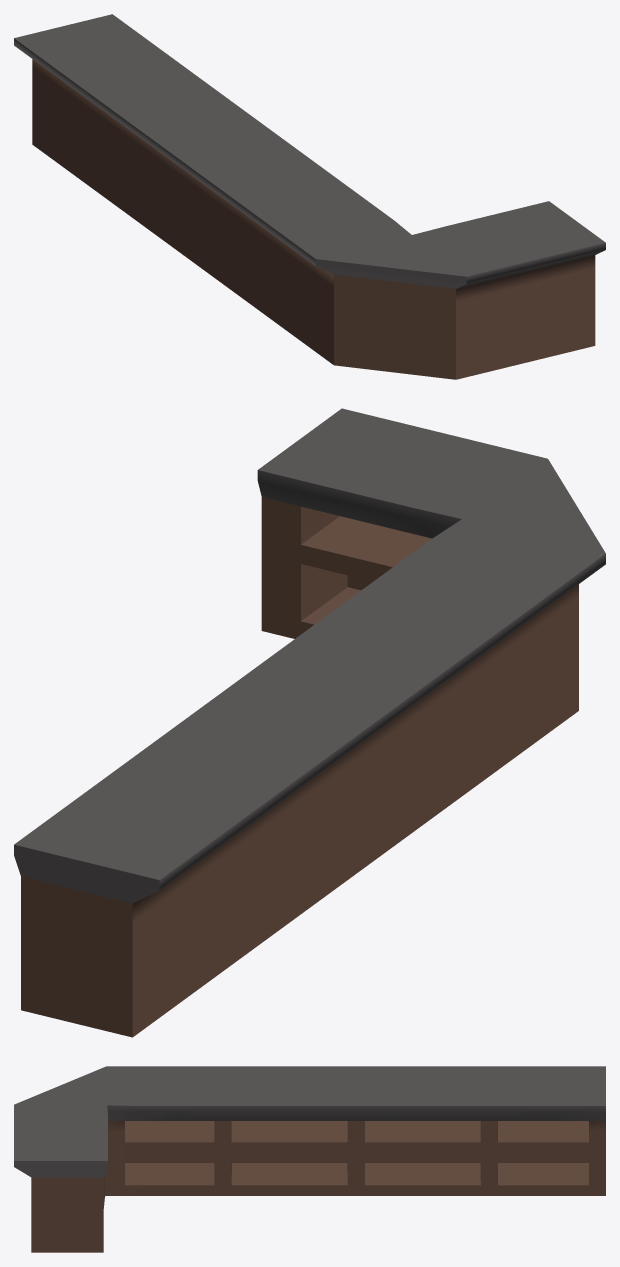
File: VR_Tavern_Bar.fbx
The picture shows the model from 3 angles, top to bottom: view 1: azimuth 30°, elevation 25°; view 2: azimuth 150°, elevation 25°; view 3: azimuth 270°, elevation 25°; orthographic projection. The views are drawn at different scales.
Visible parts, largest first — view 1: pCube6; view 2: pCube6; view 3: pCube6.
Part boxes in pixels (x1,y1,x2,y2): pCube6: [14, 14, 605, 379]; pCube6: [14, 408, 605, 1037]; pCube6: [14, 1066, 605, 1252].
Bounding box in the file's own units: 25.53 × 11.53 × 67.44.
